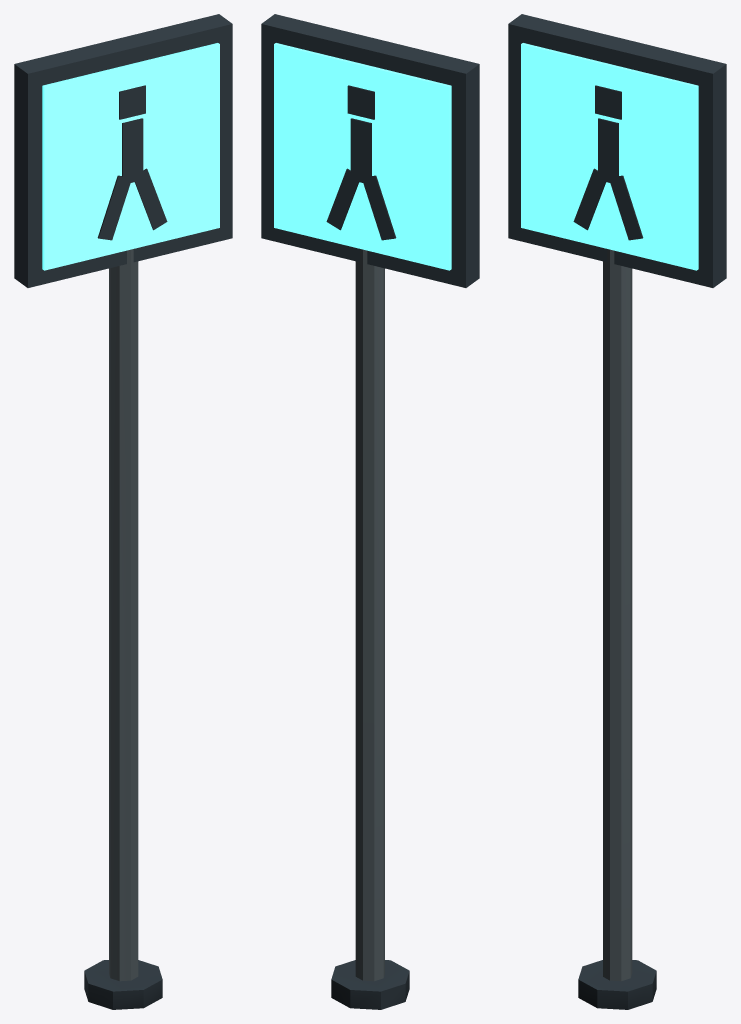
Rendered from zebra-sign.lod1.glb.
The picture shows the model from 3 angles, left to right: view 1: azimuth 30°, elevation 25°; view 2: azimuth 150°, elevation 25°; view 3: azimuth 330°, elevation 25°; orthographic projection.
Parts seen in each view (by area): view 1: structure; view 2: structure; view 3: structure.
Boxes of the visible parts, x1,y1,x2,y2 form: structure: (14,14,232,1009); structure: (261,14,479,1009); structure: (508,14,726,1009).
Bounding box in the file's own units: 0.6999 × 3.1 × 0.2399.
